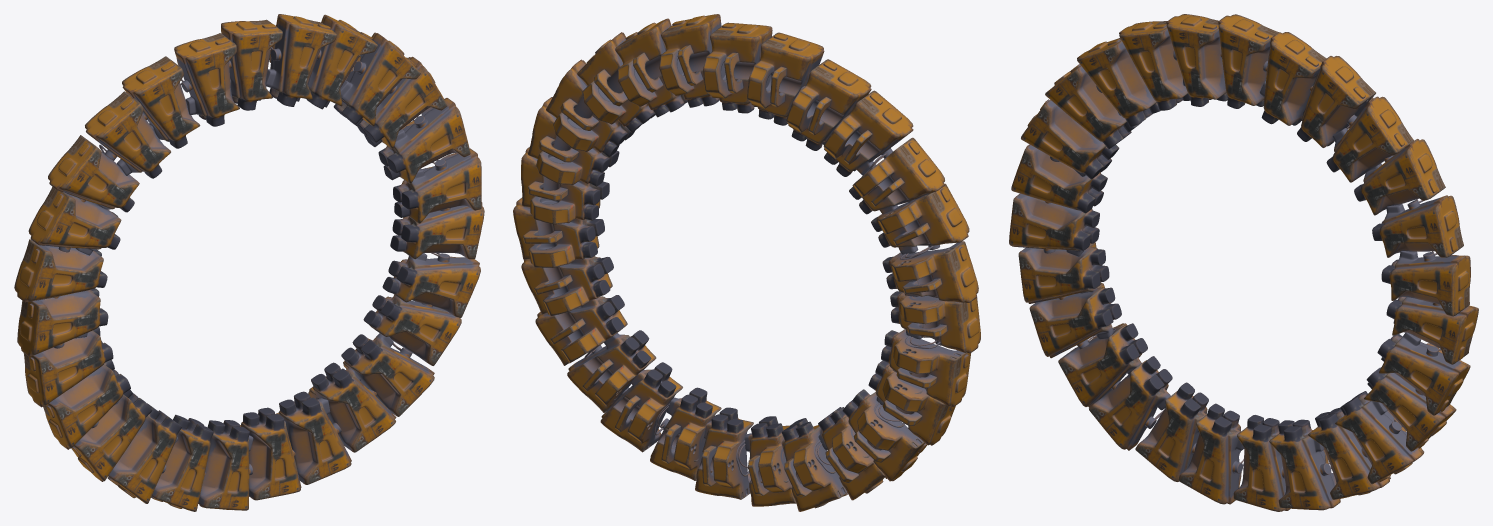
Rendered from artifact_grand_ring_01.fbx.
3 renders of one model, left to right at view 1: azimuth 30°, elevation 25°; view 2: azimuth 150°, elevation 25°; view 3: azimuth 330°, elevation 25°, orthographic.
Parts seen in each view (by area): view 1: Cube.001; view 2: Cube.001; view 3: Cube.001.
Part boxes in pixels (<box>): Cube.001: <box>14,14,484,511</box>; Cube.001: <box>513,14,980,511</box>; Cube.001: <box>1009,14,1478,511</box>.
Size of the model in its own units: 7 by 6.99 by 0.9095.
